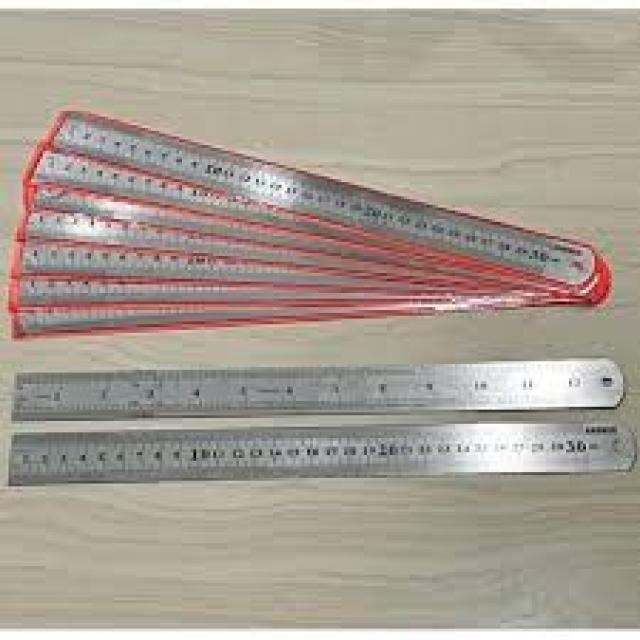Ruler: (34, 111, 598, 285), (11, 424, 632, 484), (14, 358, 620, 418)
